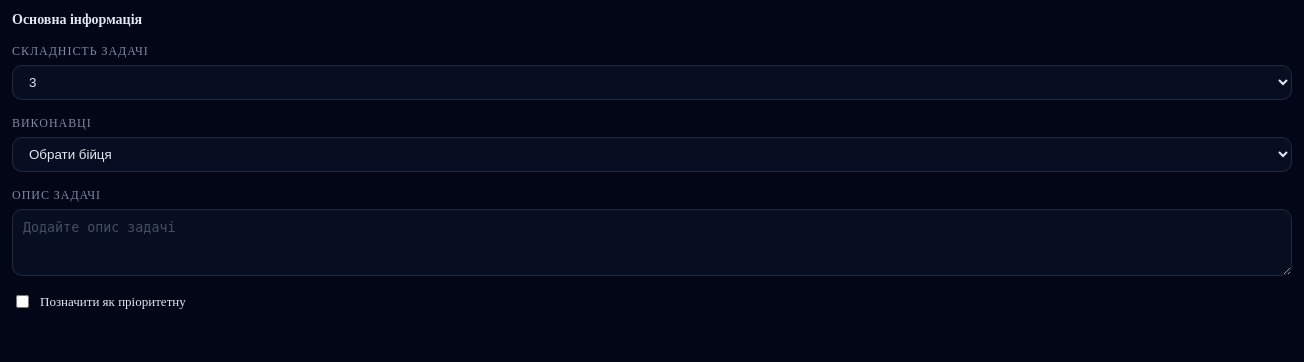
Test case: TaskViewModal Sections › manages assignees via dropdown and tags
select first fighter
Select "Alpha" in the dropdown labelled "Виконавці". click: [652, 154]
box: [12, 137, 1292, 172]
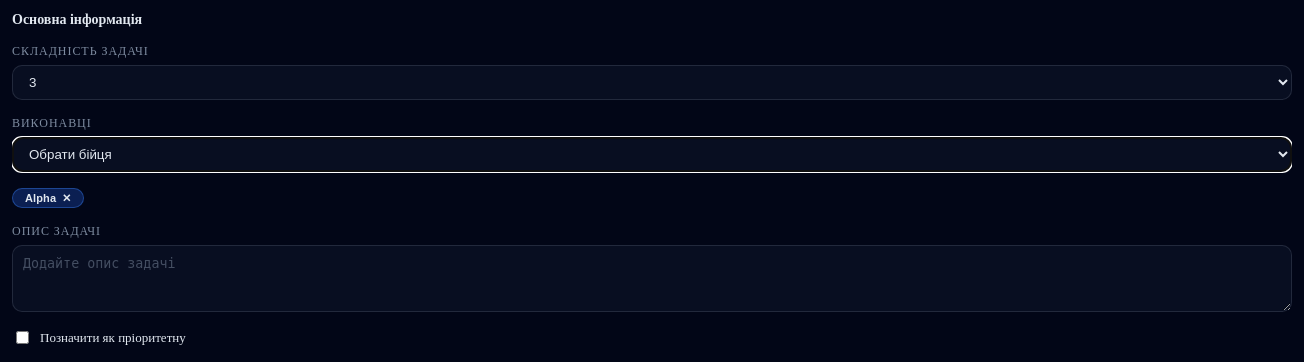
expect the text "Alpha" is shown: met, box [25, 192, 56, 204]
remove via tag click
Click the button "Alpha ✕". click: [48, 198]
box: [12, 188, 84, 208]
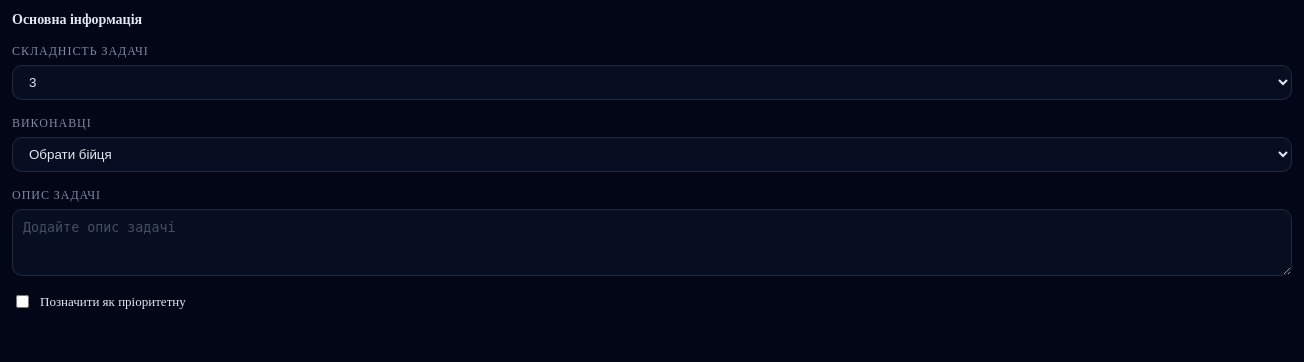
expect the button "Alpha" is gone: met
